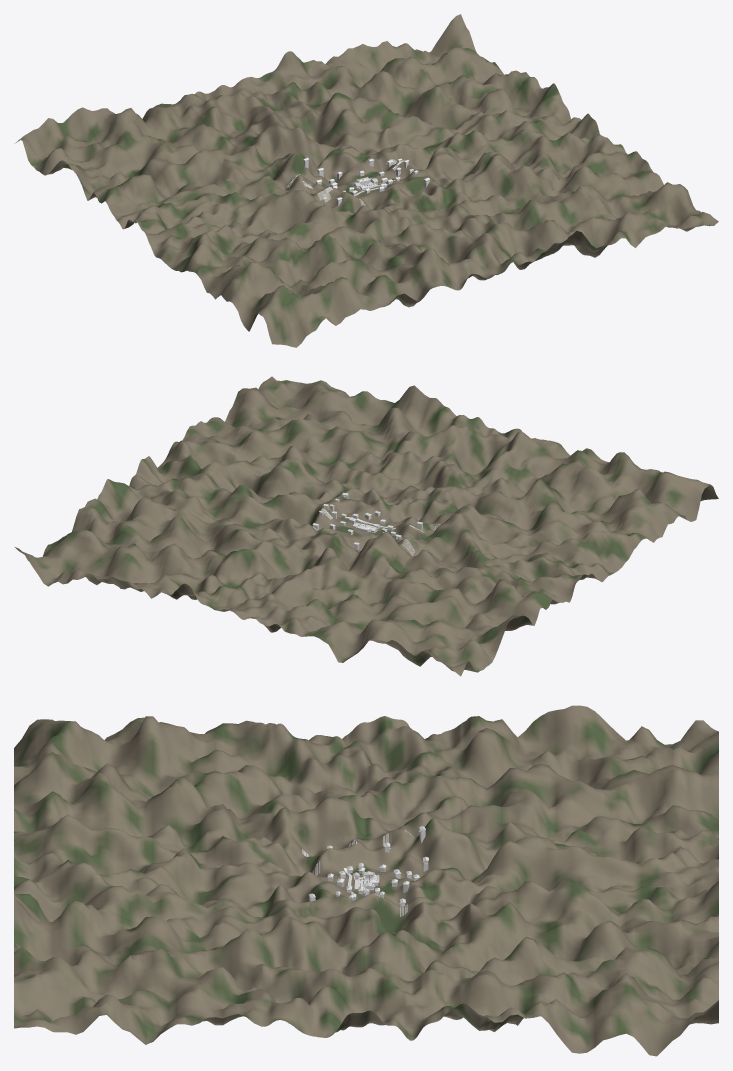
Rendered from lianghekou.glb.
3 renders of one model, top to bottom at view 1: azimuth 30°, elevation 25°; view 2: azimuth 150°, elevation 25°; view 3: azimuth 270°, elevation 25°, orthographic. The views are drawn at different scales.
Visible parts, largest first — view 1: Continuous terrain; view 2: Continuous terrain; view 3: Continuous terrain, Historic tile.001.
Boxes of the visible parts, left/top/right/bottom form: Continuous terrain: left=14, top=14, right=718, bottom=347; Continuous terrain: left=15, top=376, right=718, bottom=676; Continuous terrain: left=14, top=705, right=718, bottom=1056; Historic tile.001: left=309, top=826, right=428, bottom=902.
Bounding box in the file's own units: 629 × 65.75 × 629.
